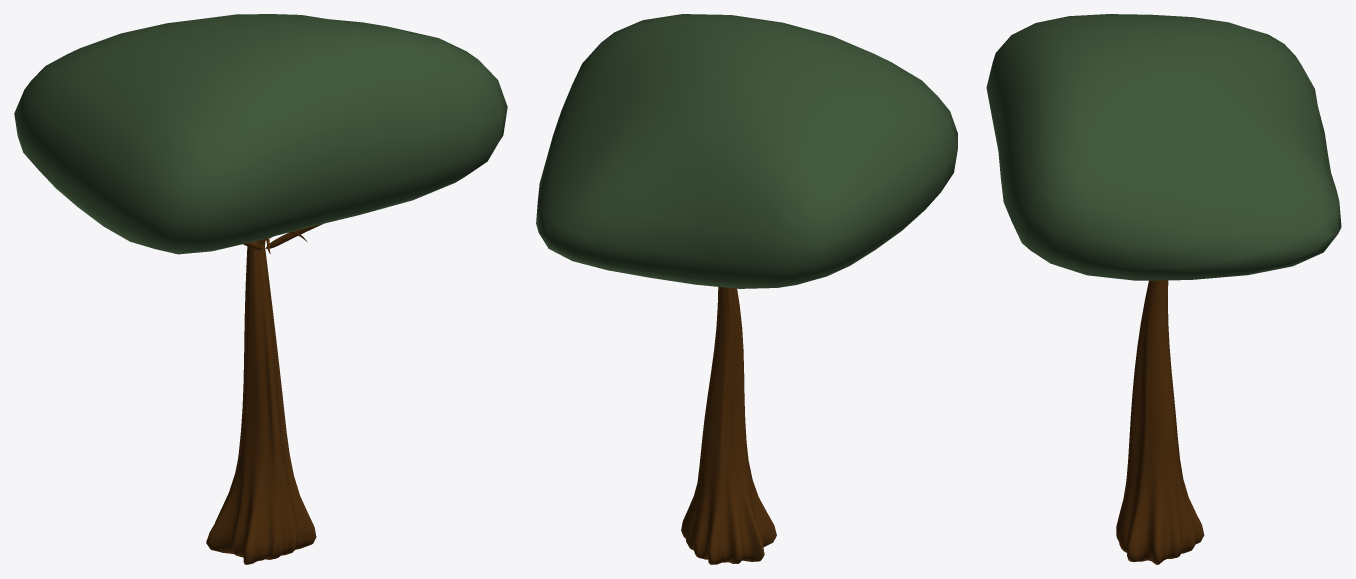
Rendered from Tree2.fbx.
3 renders of one model, left to right at view 1: azimuth 30°, elevation 25°; view 2: azimuth 150°, elevation 25°; view 3: azimuth 270°, elevation 25°, orthographic. The views are drawn at different scales.
Parts seen in each view (by area): view 1: Cube; view 2: Cube; view 3: Cube.
Boxes of the visible parts, x1=… form: Cube: x1=14, y1=14, x2=507, y2=564; Cube: x1=536, y1=14, x2=957, y2=564; Cube: x1=986, y1=14, x2=1341, y2=564.
Size of the model in its own units: 1495 by 1979 by 1252.
Materials: 3 (2 with a texture image).
